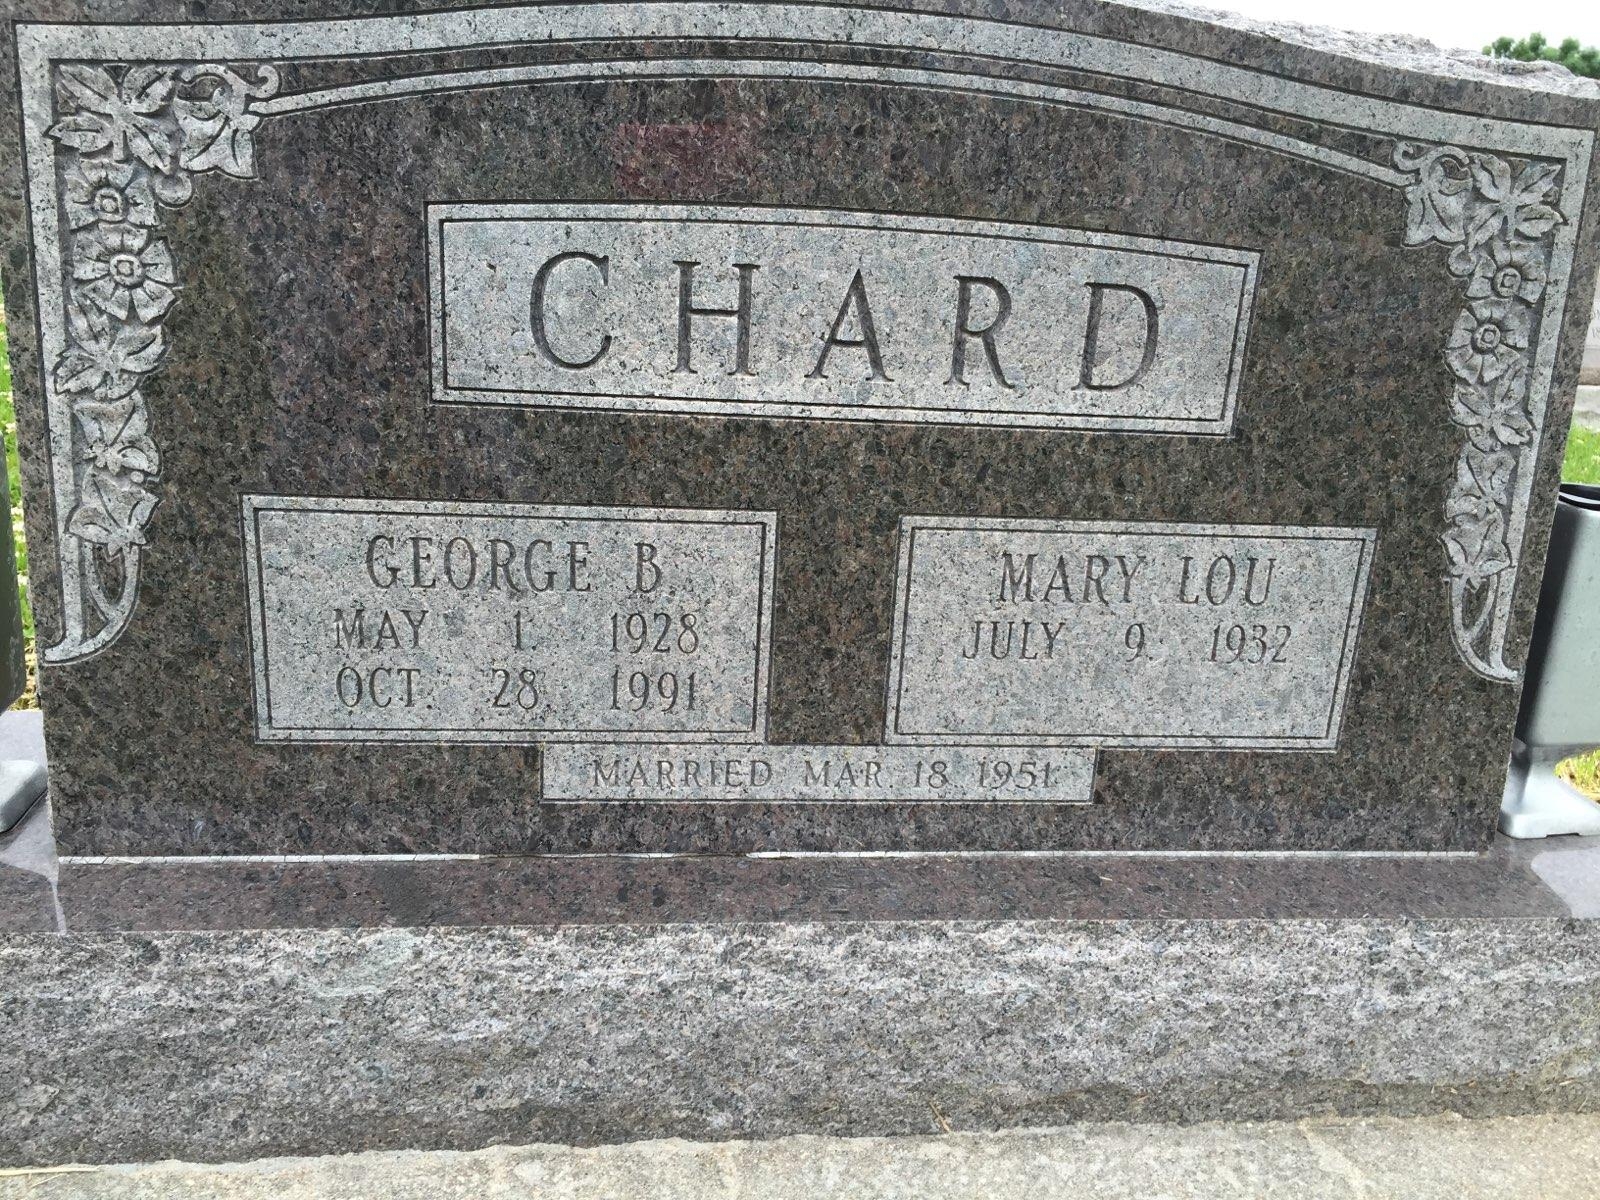upright: (0, 0, 1600, 1163)
